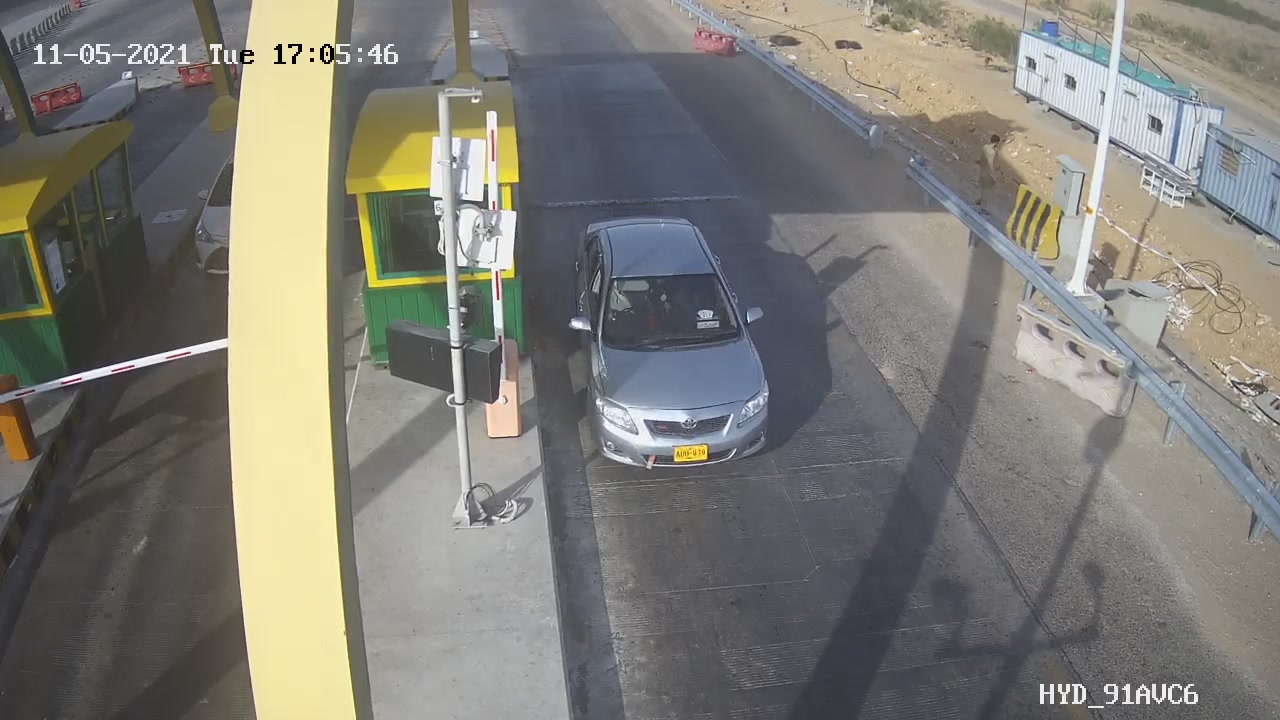F1: (547, 198, 799, 483)
